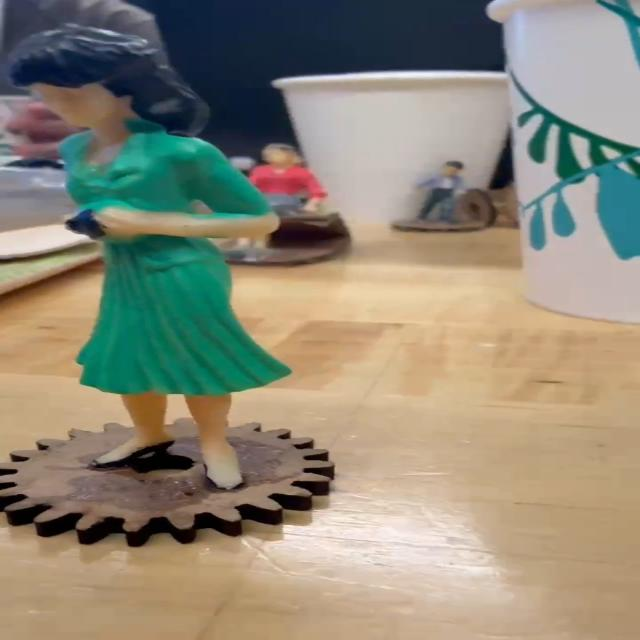Authorized: (0, 22, 352, 502)
